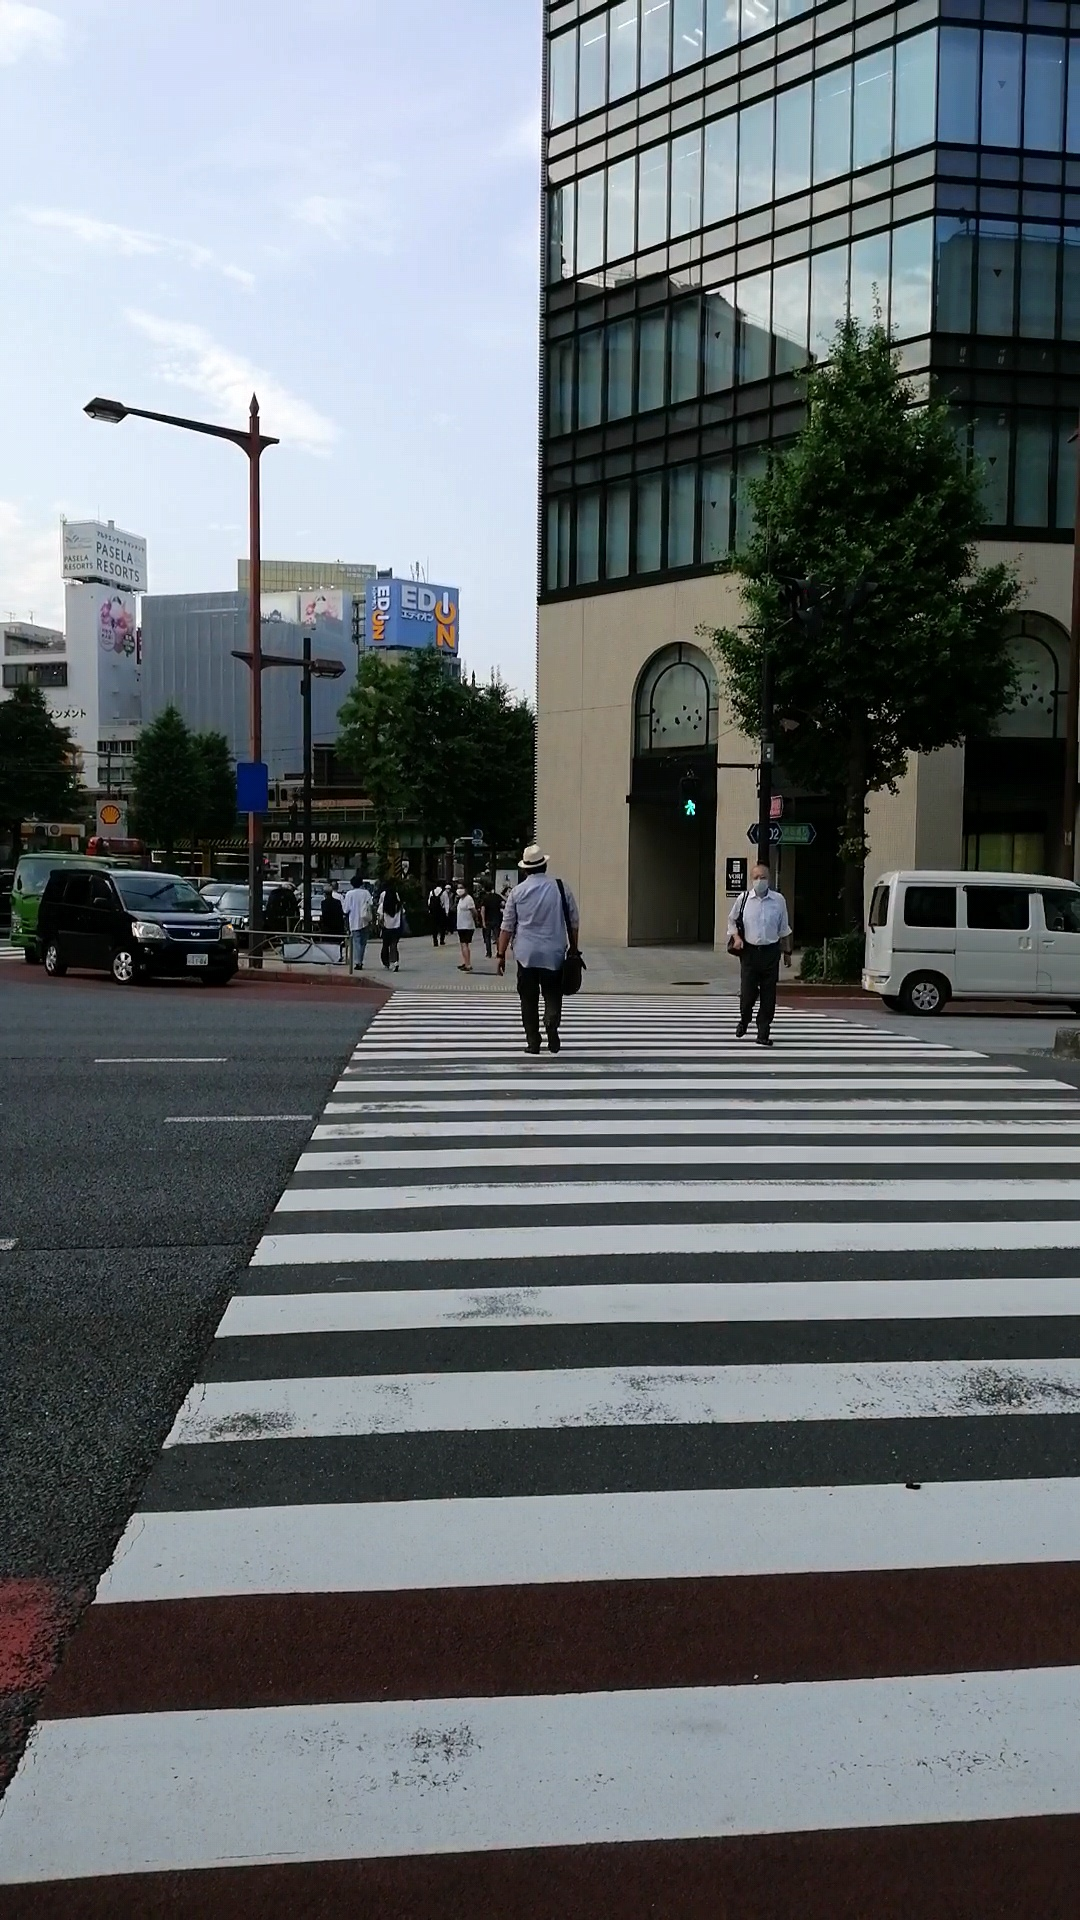green: (675, 771, 705, 824)
